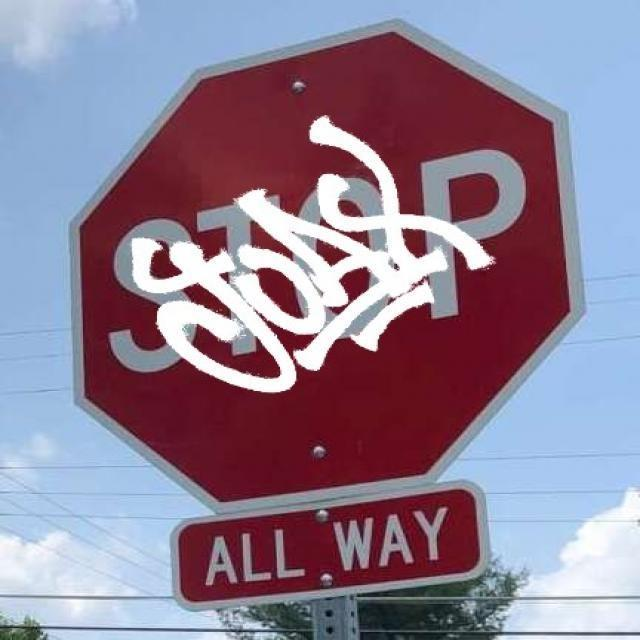Stop-Sign: (67, 29, 568, 497)
